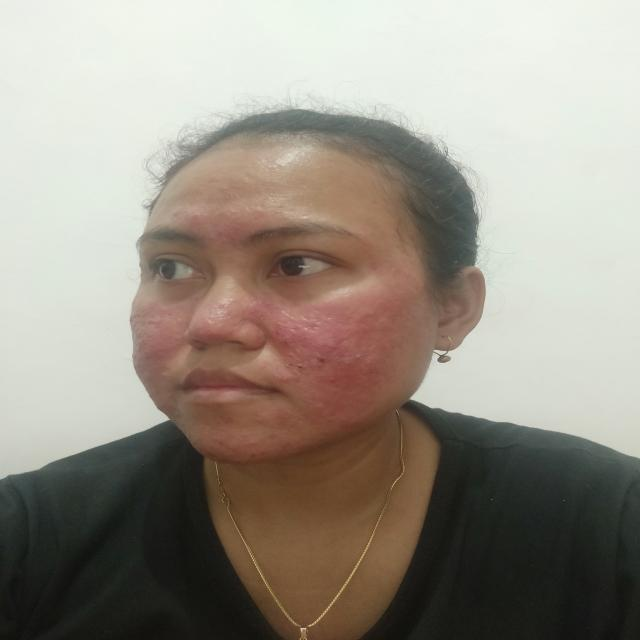Acne: (355, 293, 408, 324), (276, 308, 334, 332), (327, 332, 371, 351), (348, 350, 380, 374), (248, 293, 270, 320), (211, 297, 237, 318), (283, 341, 313, 359), (133, 303, 147, 341), (269, 408, 293, 426), (141, 312, 179, 323), (274, 327, 292, 346), (367, 253, 382, 274), (154, 342, 168, 364), (273, 371, 296, 384), (202, 329, 220, 344), (249, 208, 268, 222), (391, 265, 413, 277), (330, 413, 350, 426), (246, 439, 259, 458), (187, 209, 206, 222), (212, 436, 235, 446), (218, 414, 235, 426), (206, 230, 223, 242), (320, 376, 339, 386), (284, 361, 306, 368), (252, 417, 272, 424), (310, 402, 324, 412), (228, 226, 242, 235), (315, 356, 329, 364), (172, 408, 186, 416), (208, 448, 218, 458), (282, 442, 296, 449), (266, 434, 282, 440), (170, 210, 180, 218)
